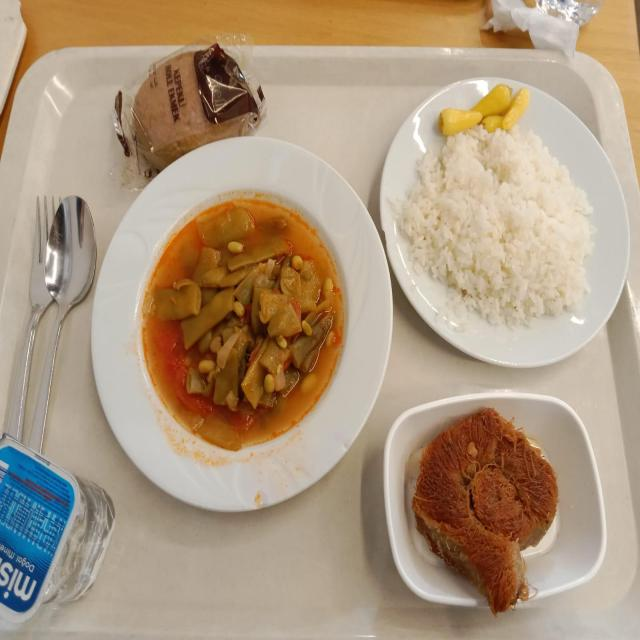ana_yemek: (97, 149, 369, 480), (405, 63, 614, 364)
yan_yemek: (387, 401, 590, 587)
